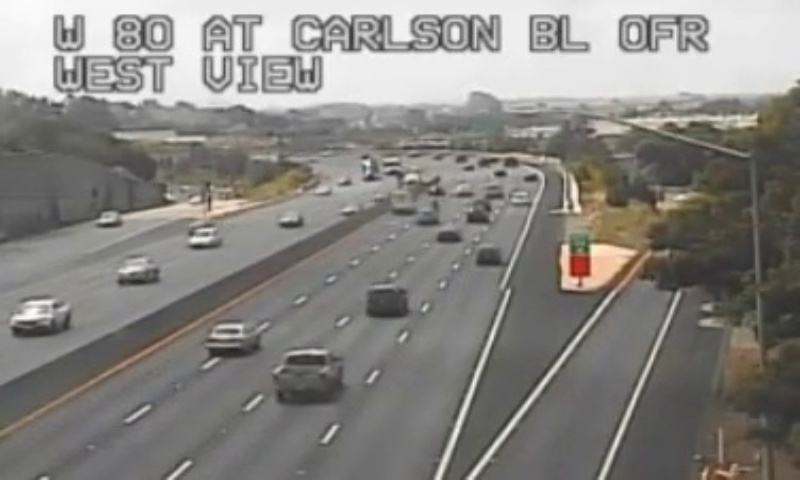car: (272, 350, 340, 395), (204, 323, 259, 351), (364, 285, 407, 317), (474, 245, 500, 265)
